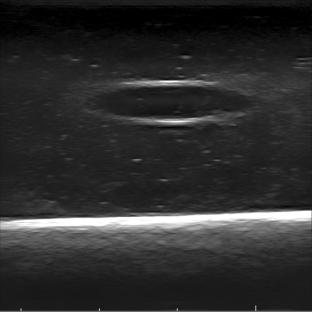vessel: (98, 79, 256, 125)
